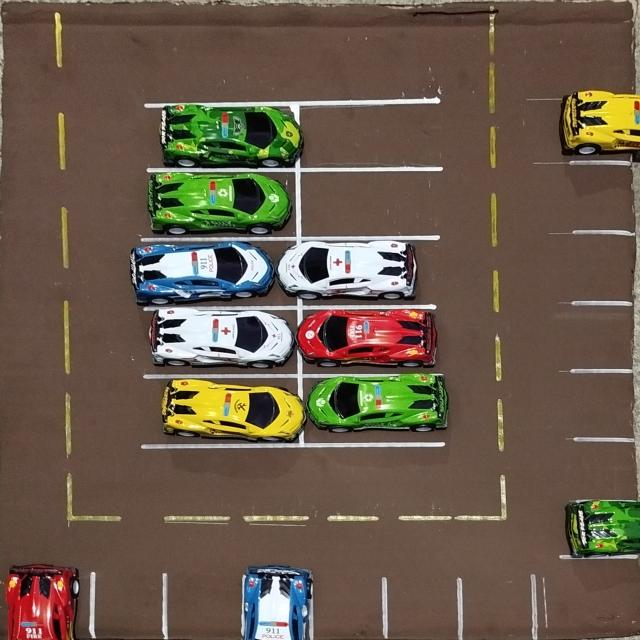libre: (300, 166, 439, 238), (298, 102, 445, 167), (568, 160, 640, 236), (567, 230, 640, 301), (567, 370, 640, 441), (460, 574, 535, 640), (568, 302, 640, 370), (311, 574, 384, 640), (385, 575, 459, 640), (569, 438, 640, 501)
no_estacionarse: (537, 557, 640, 640)
ocupado: (142, 236, 301, 308), (143, 306, 301, 378), (143, 168, 300, 238), (143, 378, 300, 446), (142, 102, 298, 168), (300, 374, 444, 444), (300, 236, 437, 304), (299, 306, 439, 372), (0, 560, 88, 640), (558, 91, 640, 161), (242, 561, 311, 640), (565, 499, 640, 556)
